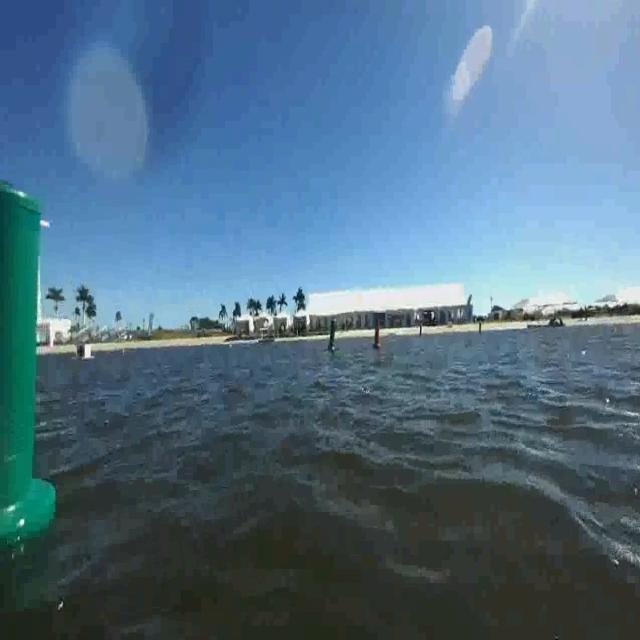green-column-buoy: (0, 177, 58, 548), (326, 320, 338, 354)
red-column-buoy: (371, 321, 381, 351)
